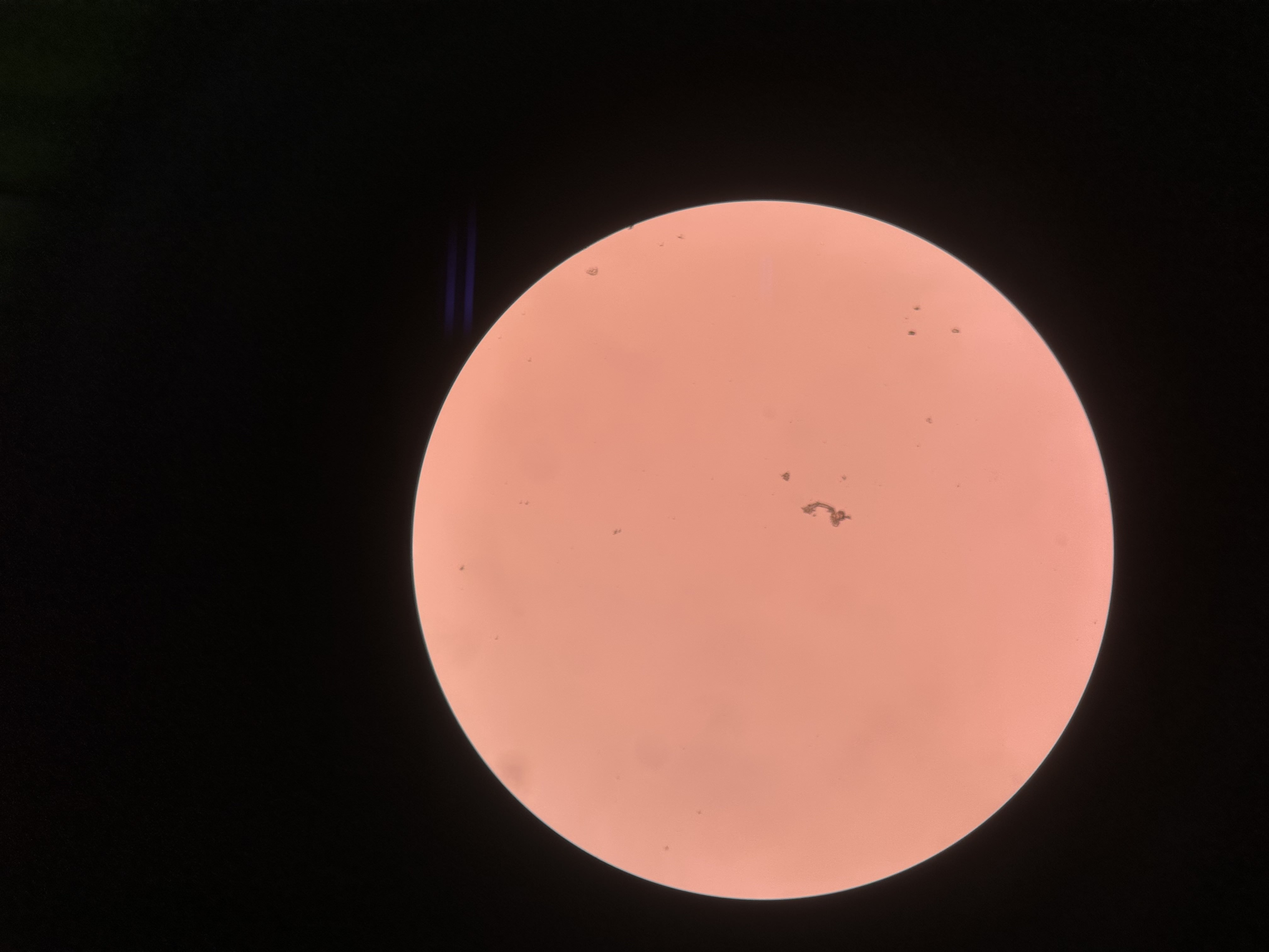microplastic: (800, 501, 854, 530), (778, 465, 794, 483), (583, 265, 601, 280)
